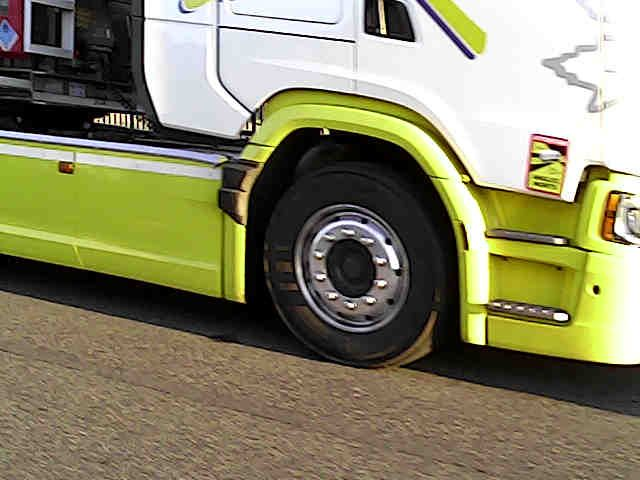whitevan: (0, 0, 639, 366)
